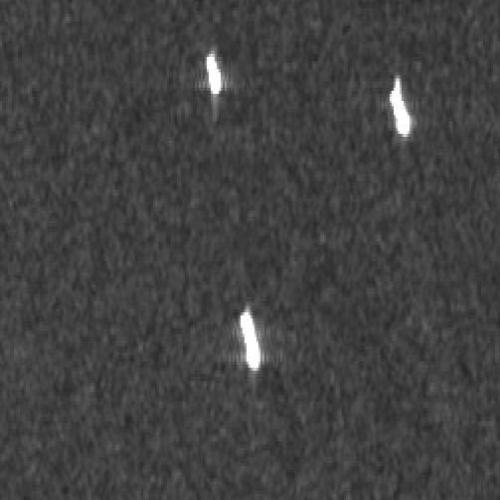ship: (389, 76, 412, 137), (240, 310, 261, 372), (205, 52, 223, 95)
